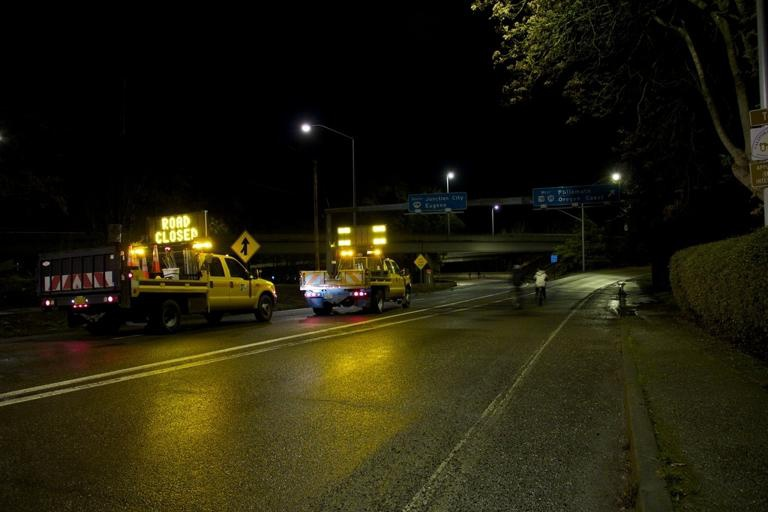non-vehicle: (509, 277, 526, 310), (615, 279, 628, 317), (533, 278, 548, 305)
